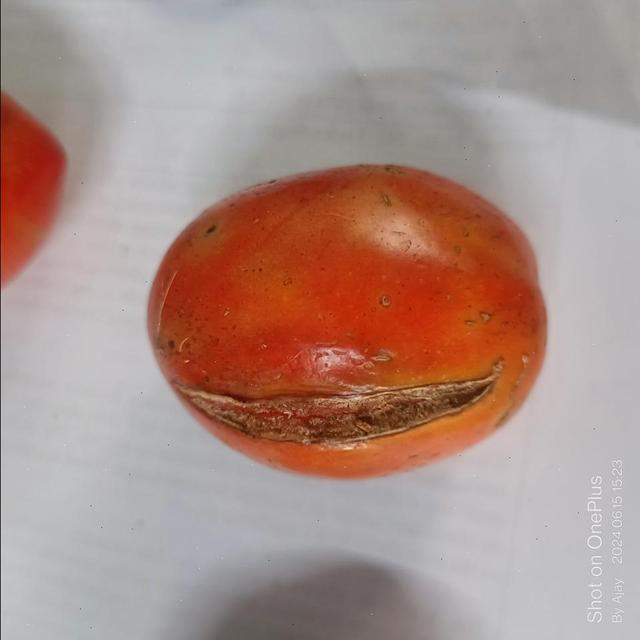Cracking Fruit: (116, 141, 236, 395)
